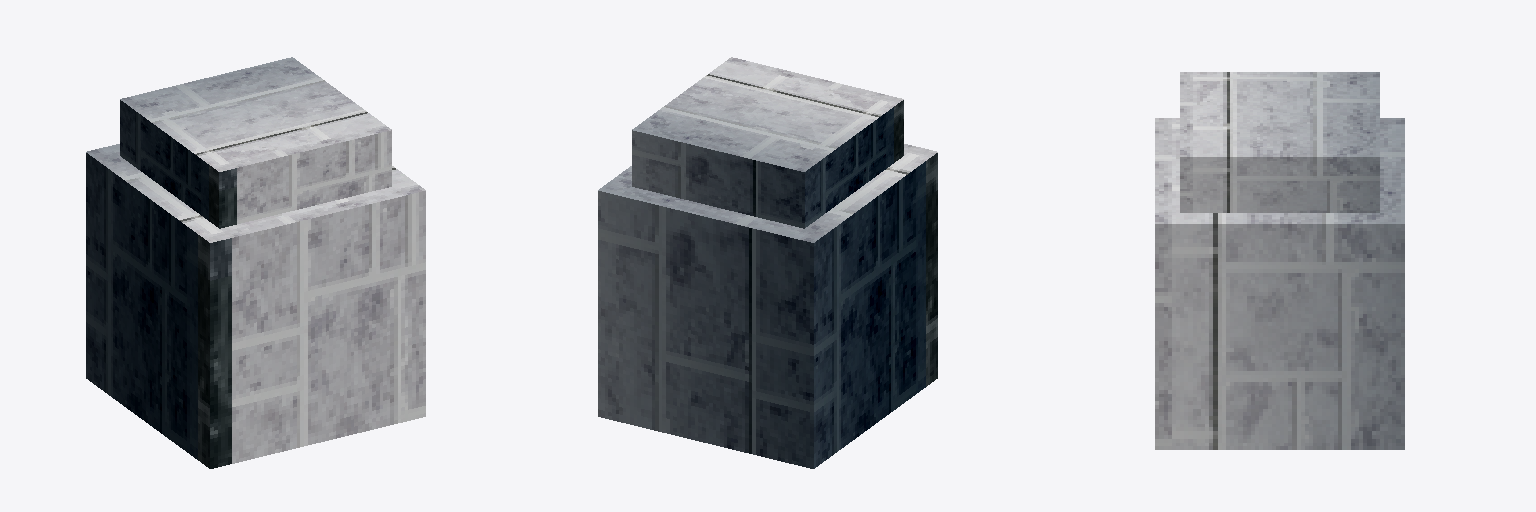
3 views of the same model, side by side, from view 1: azimuth 30°, elevation 25°; view 2: azimuth 150°, elevation 25°; view 3: azimuth 270°, elevation 25° (orthographic).
Parts seen in each view (by area): view 1: Cube, Cube.001; view 2: Cube, Cube.001; view 3: Cube, Cube.001.
Part boxes in pixels (x1,y1,x2,y2): Cube: (86,144,425,468); Cube.001: (120,57,391,228); Cube: (598,144,937,468); Cube.001: (632,57,903,228); Cube: (1155,118,1404,449); Cube.001: (1180,72,1379,212).
Bounding box in the file's own units: 1 × 1.25 × 1.
Materials: 2 (1 with a texture image).